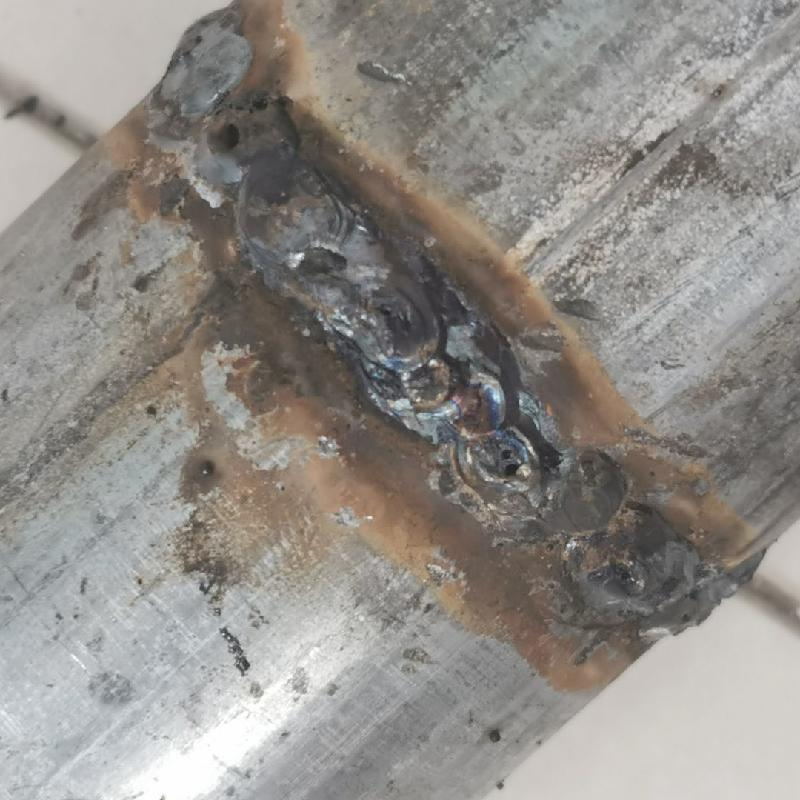Surface_pores: (205, 95, 280, 155), (611, 557, 647, 598), (495, 447, 529, 482)
crater: (335, 290, 546, 492)
wrong_size: (148, 7, 354, 287), (541, 462, 743, 648)
